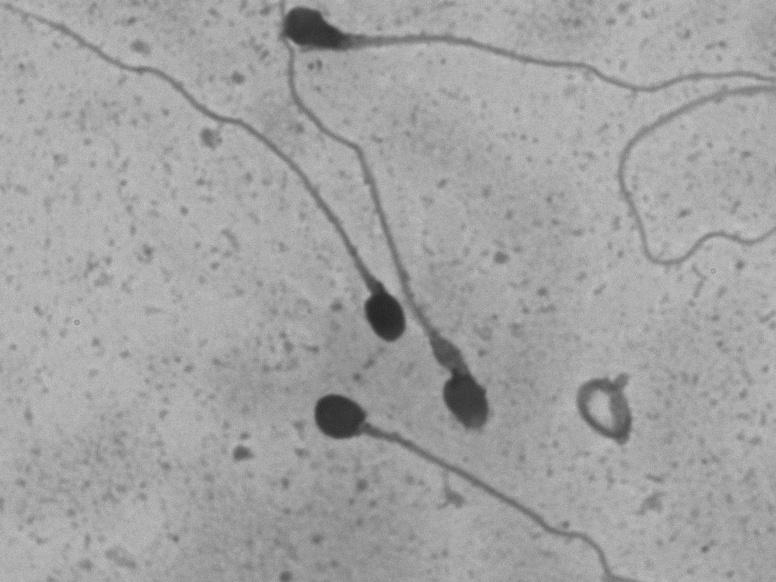Abnormal: (9, 7, 419, 360), (257, 55, 524, 441), (298, 376, 574, 492)
